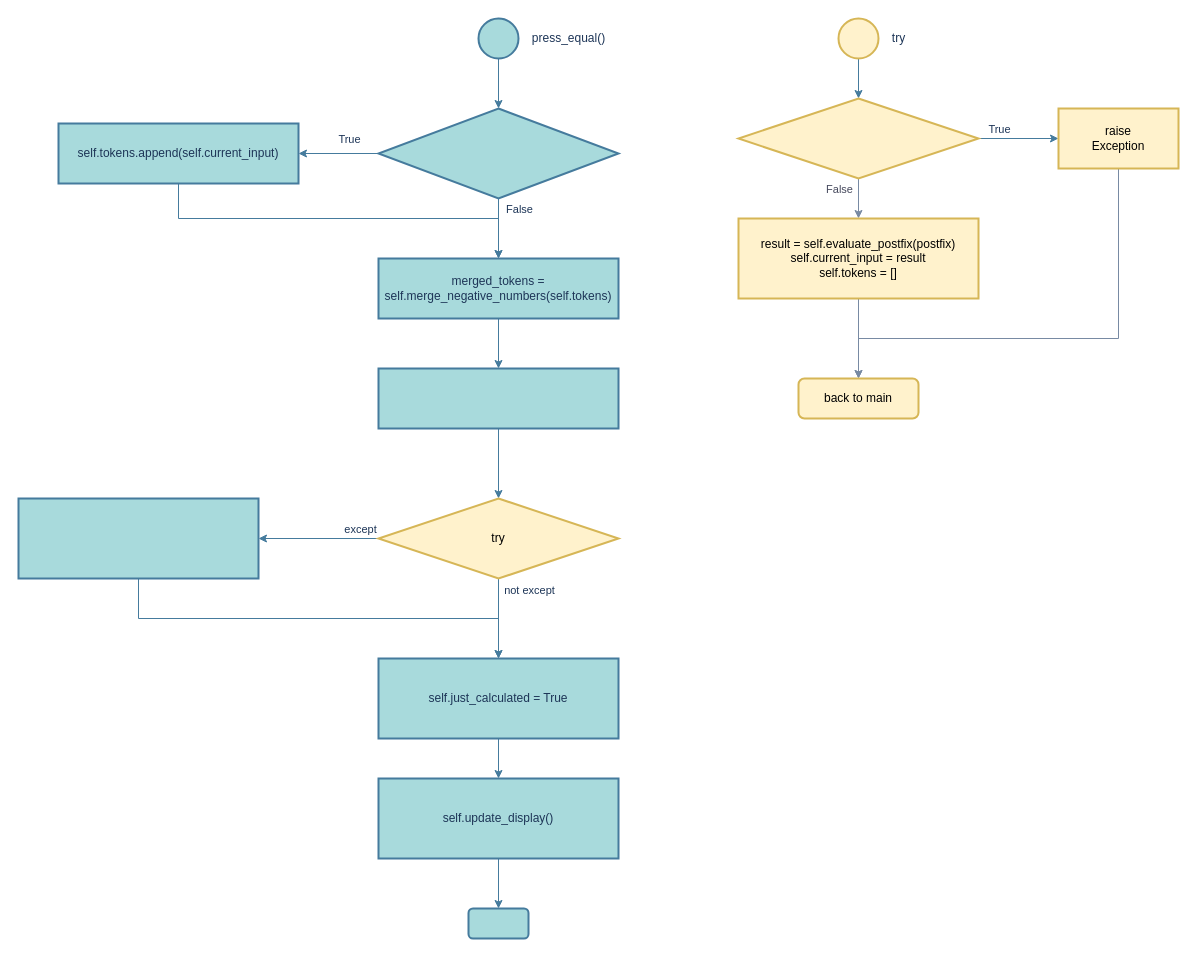
Some shapes in this 1196 by 956 pixel diagram are drawn without their labels. Each missing label, with the centre of its shape:
postfix = self.to_postfix(merged_tokens): (x=498, y=398)
postfix == "Error": (x=858, y=138)
self.current_input: (x=498, y=153)
self.current_input = "Error" self.just_errored = True self.tokens = []: (x=138, y=538)
